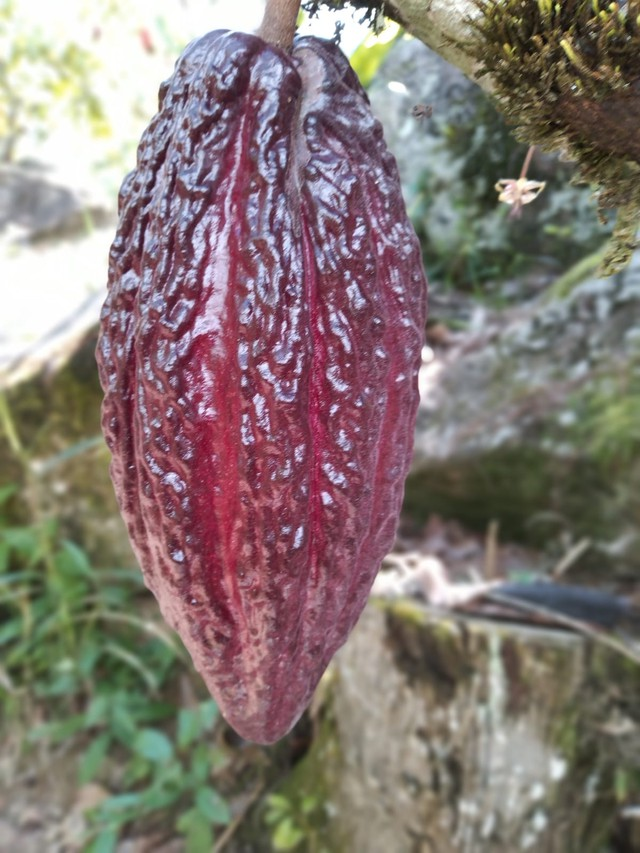Health: (95, 24, 430, 757)
